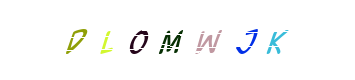0: (116, 0, 196, 80)
D: (51, 0, 131, 80)
J: (208, 0, 288, 80)
K: (232, 0, 312, 80)
L: (60, 0, 140, 80)
M: (137, 0, 217, 80)
W: (146, 0, 226, 80)
